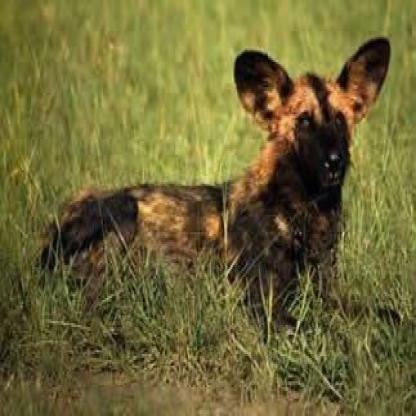African_hunting_dog: (18, 37, 395, 327)
